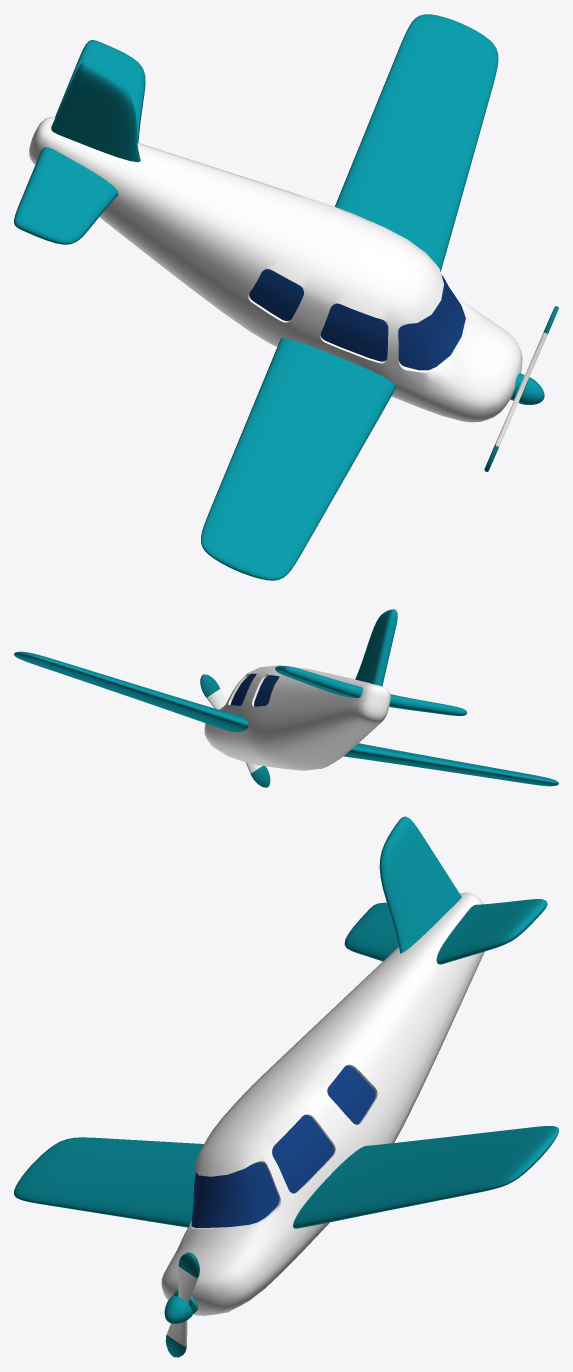
The model's file is small_airplane.gltf.
The picture shows the model from 3 angles, top to bottom: view 1: azimuth 30°, elevation 25°; view 2: azimuth 150°, elevation 25°; view 3: azimuth 270°, elevation 25°; orthographic projection. The views are drawn at different scales.
Parts seen in each view (by area): view 1: Cube.790, Cube.793, Cube.791, Cube.792, Cube.794; view 2: Cube.790, Cube.793, Cube.791, Cube.792, Cube.794; view 3: Cube.790, Cube.793, Cube.792, Cube.791, Cube.794, Sphere.506.
Boxes of the visible parts, x1=… form: Cube.790: x1=29, y1=117, x2=522, y2=422; Cube.793: x1=201, y1=14, x2=498, y2=580; Cube.791: x1=14, y1=40, x2=145, y2=244; Cube.792: x1=51, y1=62, x2=140, y2=162; Cube.794: x1=484, y1=306, x2=558, y2=471; Cube.790: x1=204, y1=665, x2=390, y2=770; Cube.793: x1=14, y1=651, x2=558, y2=786; Cube.791: x1=275, y1=666, x2=466, y2=715; Cube.792: x1=355, y1=609, x2=397, y2=686; Cube.794: x1=200, y1=674, x2=270, y2=787; Cube.790: x1=161, y1=892, x2=484, y2=1315; Cube.793: x1=14, y1=1126, x2=558, y2=1228; Cube.792: x1=379, y1=816, x2=461, y2=953; Cube.791: x1=344, y1=899, x2=547, y2=964; Cube.794: x1=165, y1=1252, x2=199, y2=1357; Sphere.506: x1=164, y1=1289, x2=197, y2=1323.
Size of the model in its own units: 2.55 by 1.76 by 2.18.
Materials: 1 (1 with a texture image).
